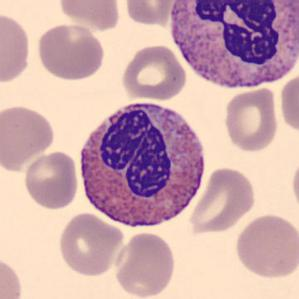Eosinophil: (72, 93, 212, 237)
Neutrophil: (166, 0, 299, 95)
RBC: (186, 164, 257, 236), (56, 211, 126, 278), (112, 230, 178, 299), (232, 212, 298, 280), (35, 22, 106, 83), (120, 43, 188, 102), (0, 102, 57, 172), (222, 87, 280, 154), (21, 150, 80, 211), (0, 10, 32, 86), (56, 0, 123, 32), (122, 0, 177, 26), (277, 70, 299, 134), (0, 253, 25, 299), (288, 152, 299, 215)
